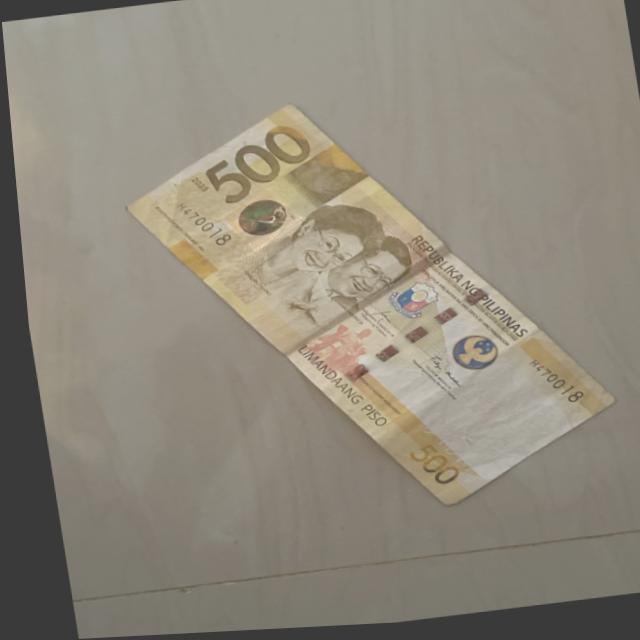concealed_value: (283, 158, 362, 206)
optically_variable_device: (229, 199, 285, 239)
